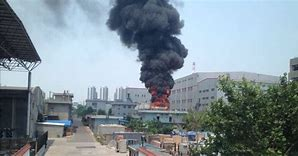smoke: (104, 1, 190, 100)
